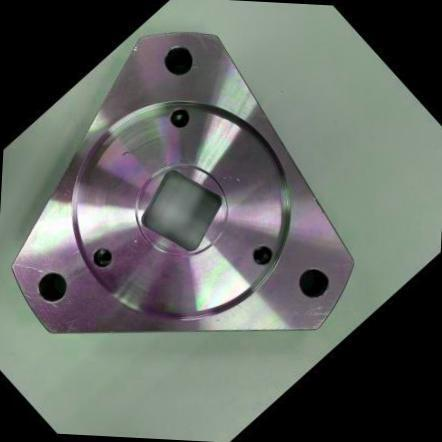hole: (289, 259, 337, 307), (28, 263, 76, 311), (155, 36, 202, 84), (85, 241, 119, 274), (164, 100, 196, 134), (246, 238, 278, 271)
